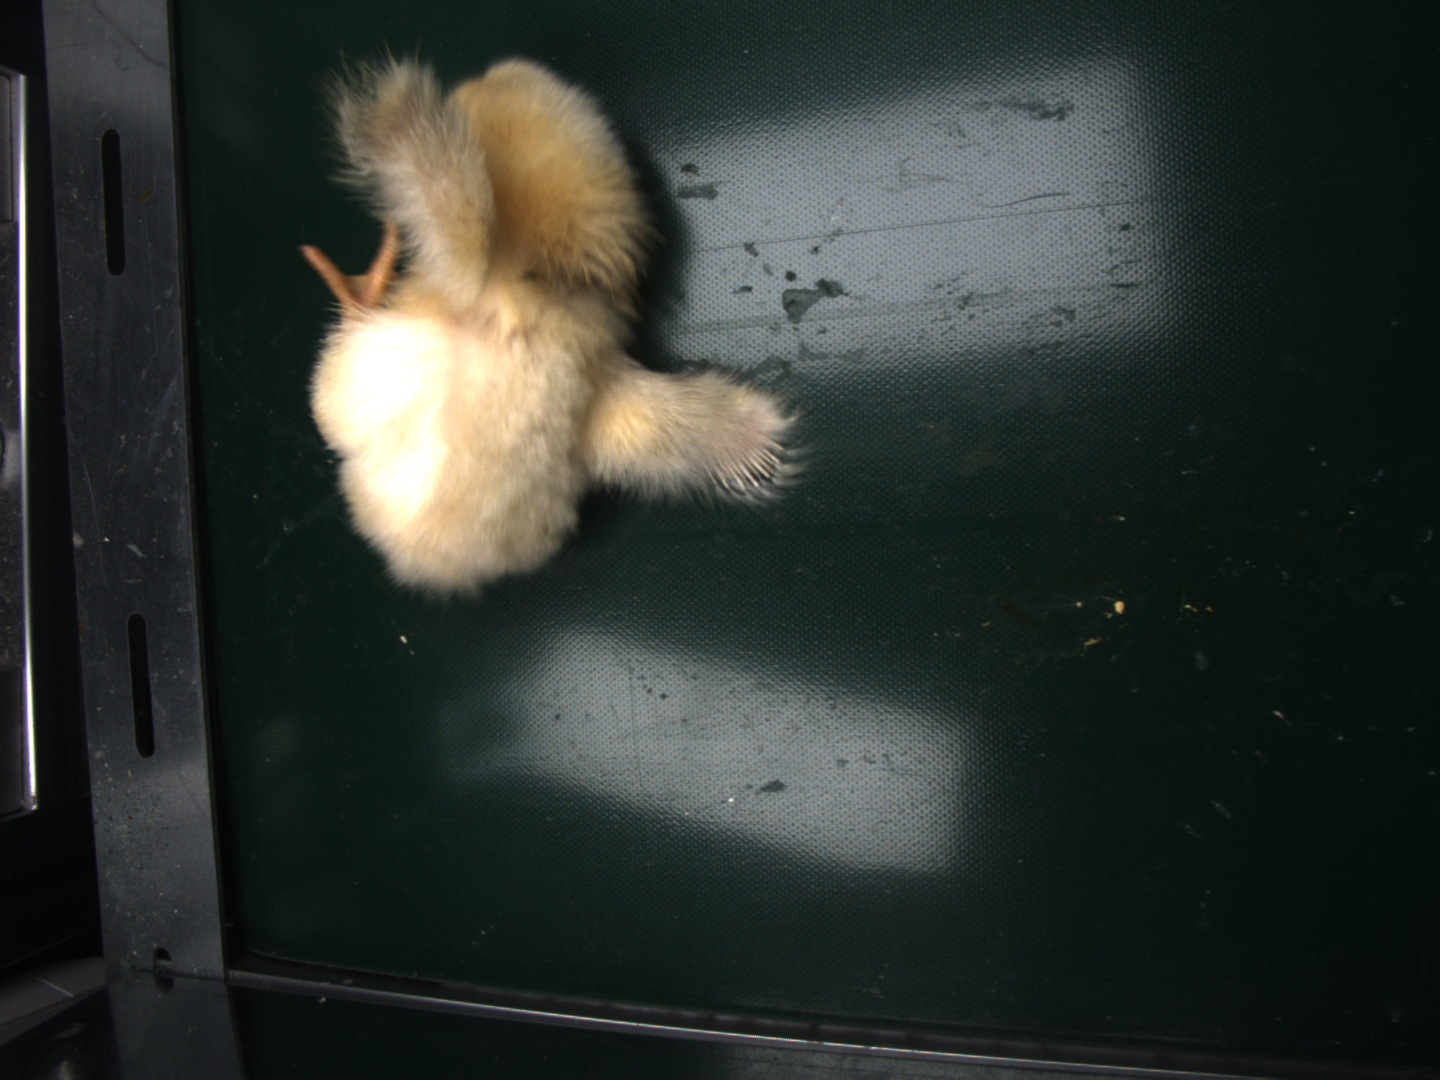male: (715, 441, 783, 493)
